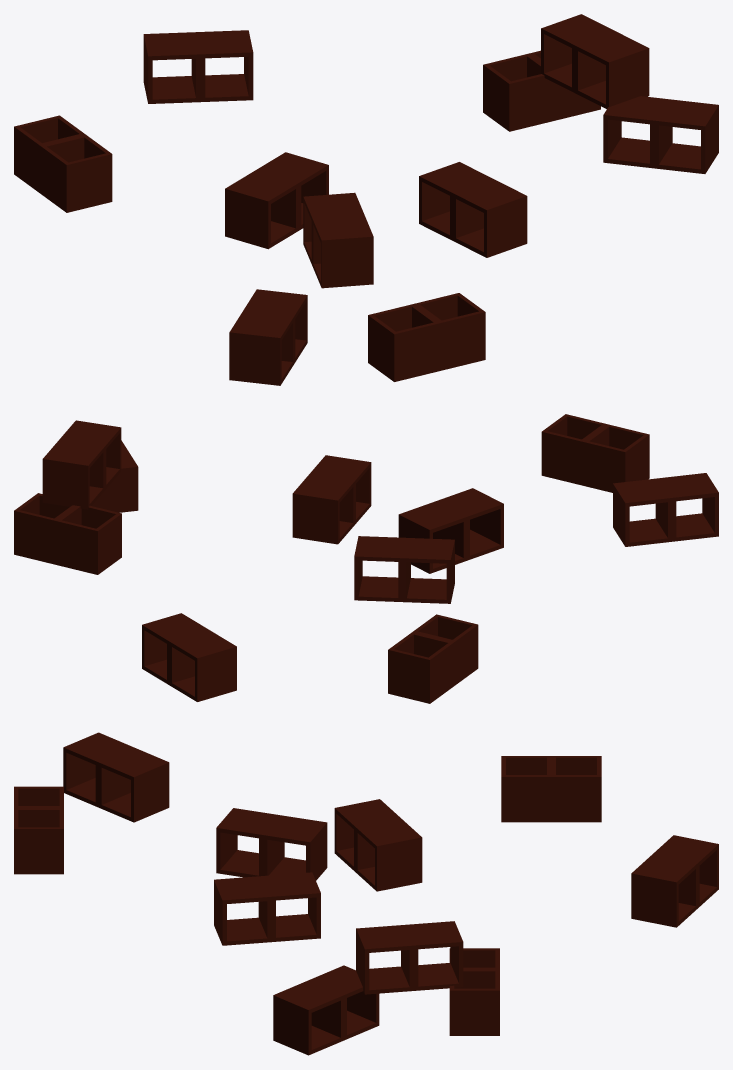
Rendered from SM_Bricks.fbx.
3 renders of one model, top to bottom at view 1: azimuth 30°, elevation 25°; view 2: azimuth 150°, elevation 25°; view 3: azimuth 270°, elevation 25°, orthographic. The views are drawn at different scales.
Visible parts, largest first — view 1: bricks001; view 2: bricks001; view 3: bricks001.
Boxes of the visible parts, x1,y1,x2,y2 form: bricks001: (14, 14, 718, 385); bricks001: (14, 414, 718, 703); bricks001: (14, 732, 718, 1055).
Size of the model in its own units: 131 by 19.5 by 141.
